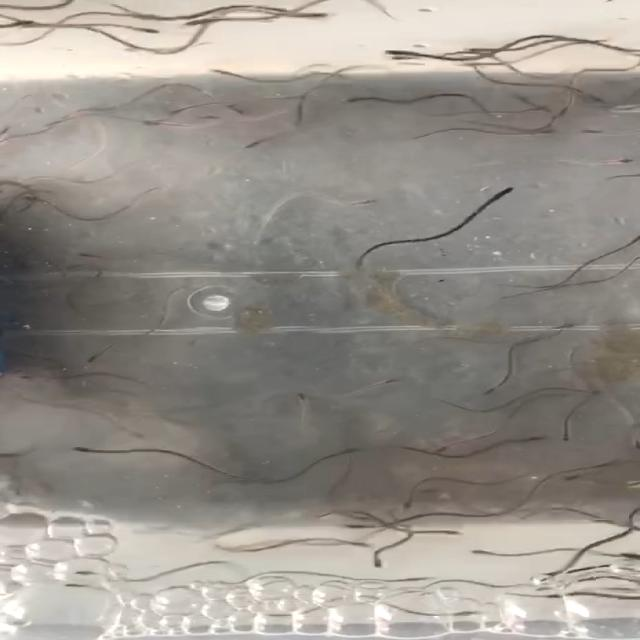active_glass_eel: (105, 5, 163, 22), (578, 90, 628, 108), (330, 89, 380, 107), (440, 602, 479, 624), (542, 425, 577, 449), (66, 560, 108, 580), (550, 380, 596, 398), (327, 522, 377, 538), (562, 574, 610, 590), (473, 378, 507, 400), (482, 187, 530, 202), (548, 560, 584, 580), (333, 504, 377, 520), (422, 528, 470, 542), (454, 42, 490, 60), (509, 431, 545, 449), (0, 130, 40, 146), (600, 153, 640, 169), (546, 316, 578, 336), (58, 576, 98, 592), (586, 121, 626, 137), (463, 546, 516, 558), (282, 9, 334, 21), (202, 480, 228, 504), (438, 436, 469, 456), (80, 241, 114, 259), (340, 435, 368, 456), (564, 466, 590, 488), (167, 16, 206, 30), (292, 393, 318, 414), (586, 514, 620, 530), (393, 493, 429, 508), (114, 22, 158, 34), (344, 190, 377, 206), (119, 426, 152, 442), (70, 352, 102, 368), (535, 125, 571, 139), (620, 433, 640, 458), (6, 348, 37, 364), (550, 95, 576, 114), (74, 441, 104, 457), (200, 68, 234, 82), (358, 558, 392, 572), (323, 534, 357, 548), (288, 111, 314, 129), (235, 141, 268, 155), (539, 590, 571, 604), (528, 95, 554, 112), (562, 466, 598, 478), (0, 15, 34, 27), (146, 116, 180, 128), (162, 103, 194, 115), (378, 46, 408, 58), (376, 379, 406, 391), (618, 233, 640, 249), (615, 170, 640, 183), (26, 193, 52, 205), (458, 60, 489, 70), (220, 106, 248, 116)
